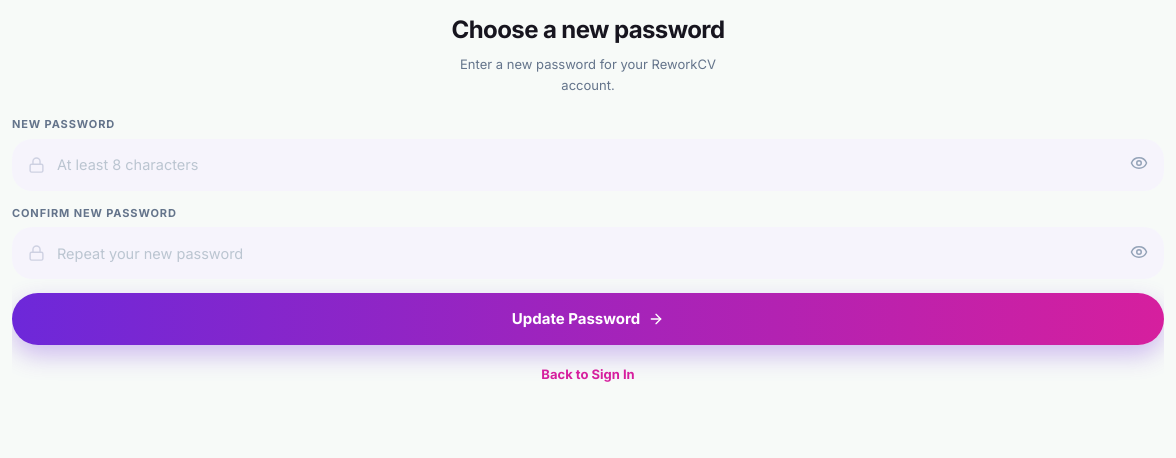
Test case: ResetPasswordForm › surfaces update failures without navigating away
Type "newpassword123" into the password field labelled "New Password" at coordinates (588, 165), box [12, 139, 1164, 191]
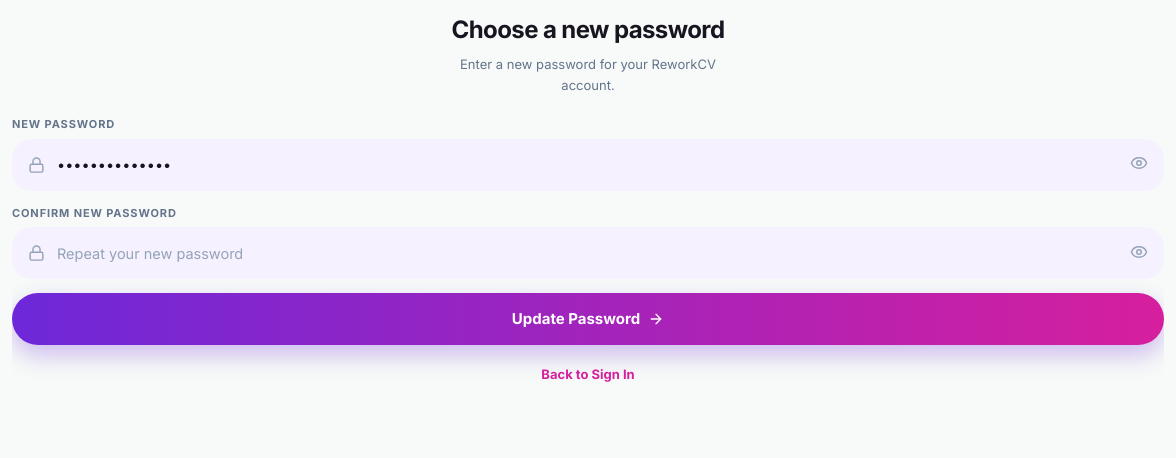
Type "newpassword123" into the password field labelled "Confirm New Password" at coordinates (588, 253), box [12, 227, 1164, 279]
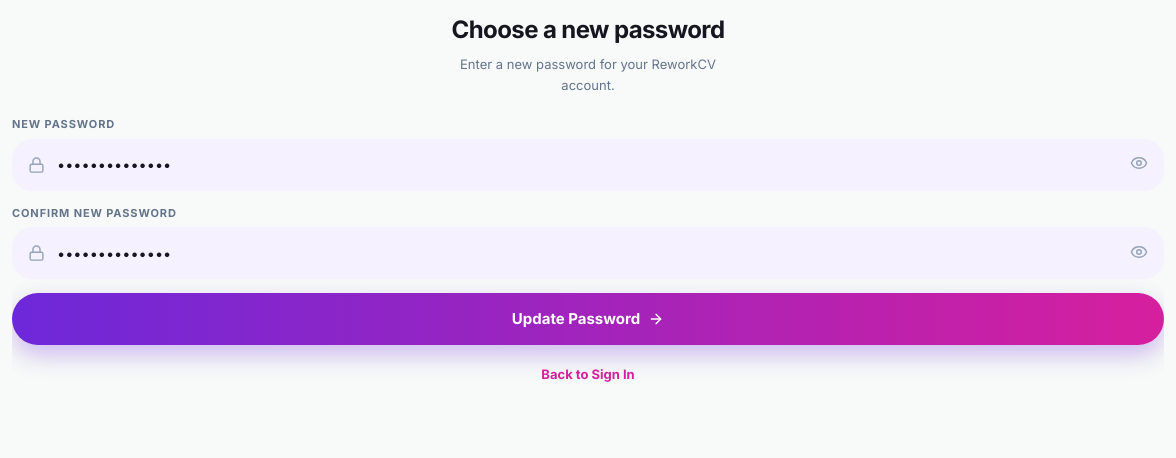
Click the button "Update Password" at coordinates (588, 319), box [12, 293, 1164, 345]
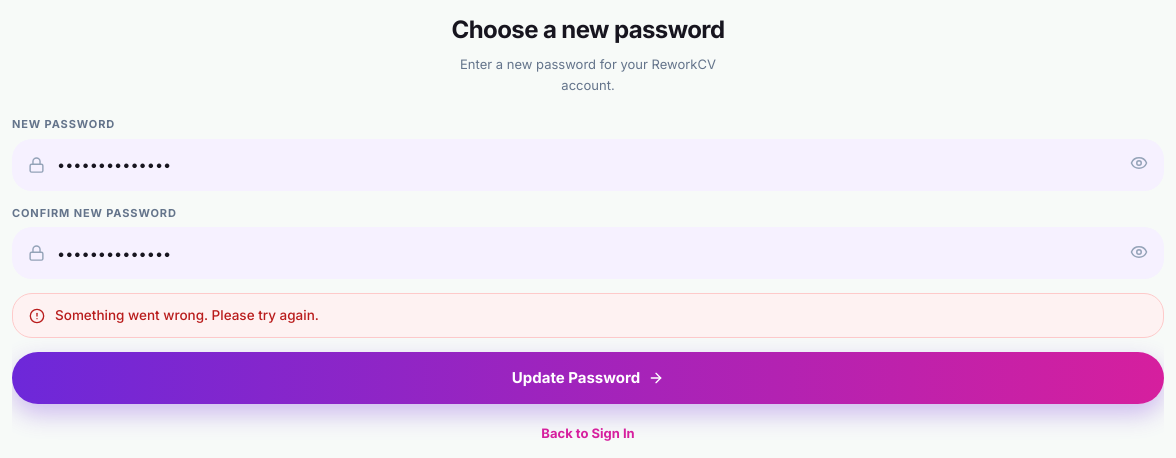
Now the text "Something went wrong. Please try again." is shown, box [55, 306, 319, 325]
